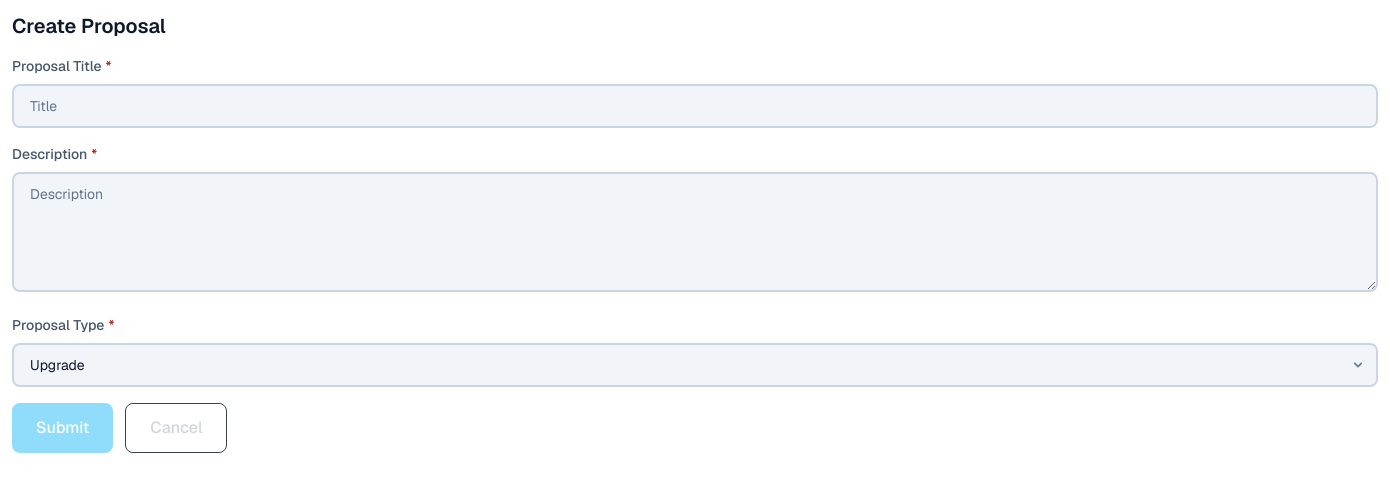
Test case: CreateProposalModal › shows validation errors after blur for invalid fields
Type "bad" into the field labelled "Proposal Title *" at (695, 106), box [12,84,1378,128]
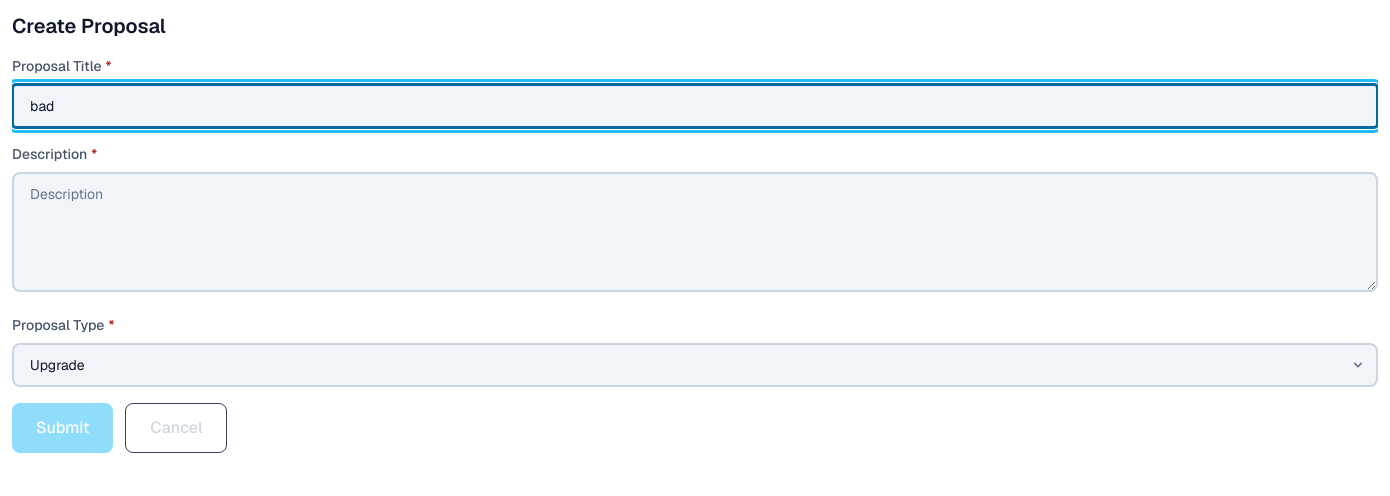
Press Tab
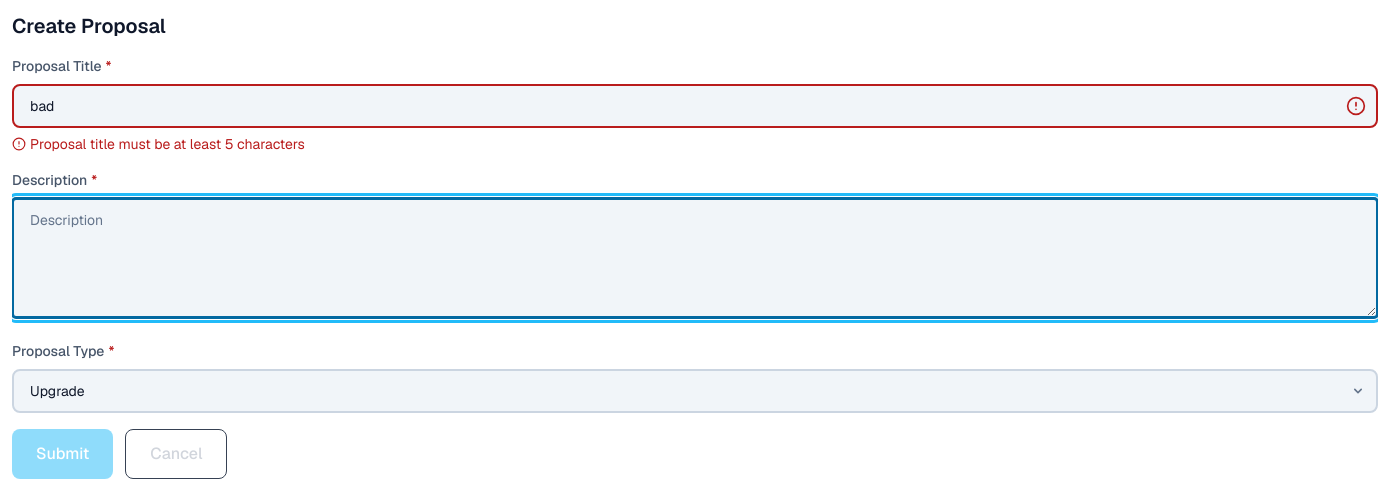
Check: the text "Proposal title must be at least 5 characters" is shown, box [12,135,305,153]
